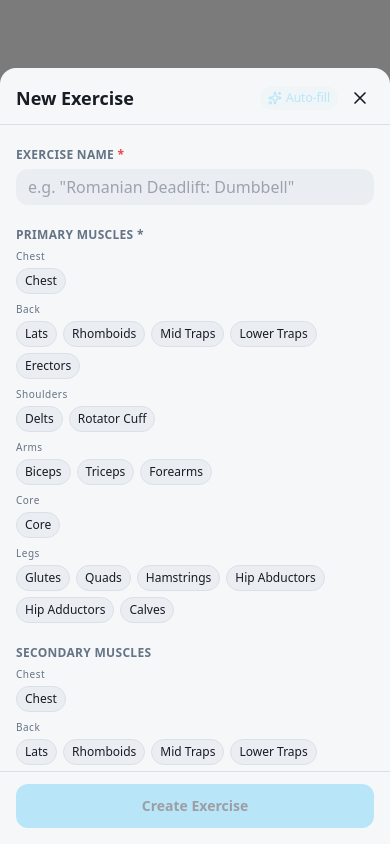
Scenario: CreateExerciseForm — Auto-fill button › Auto-fill click POSTs kind=all with all CreateForm fields, fills empty description+steps+tips
In the field with placeholder "e.g. \"Romanian Deadlift: Dumbbell\"": (195, 186) [16, 168, 374, 204], type "Romanian Deadlift"
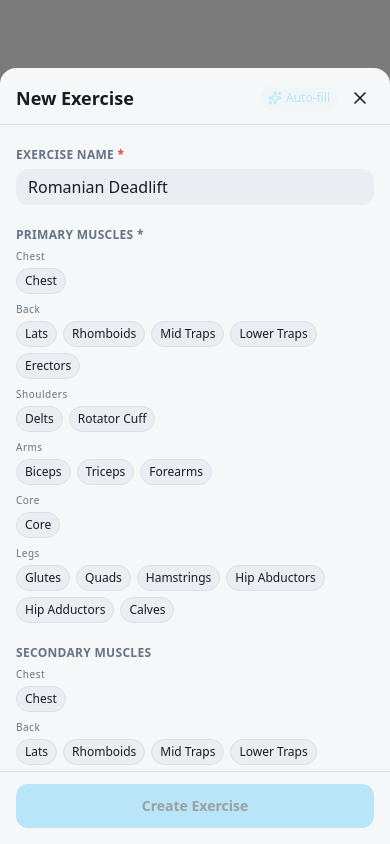
Click the button "Hamstrings": (179, 578) [137, 564, 220, 590]
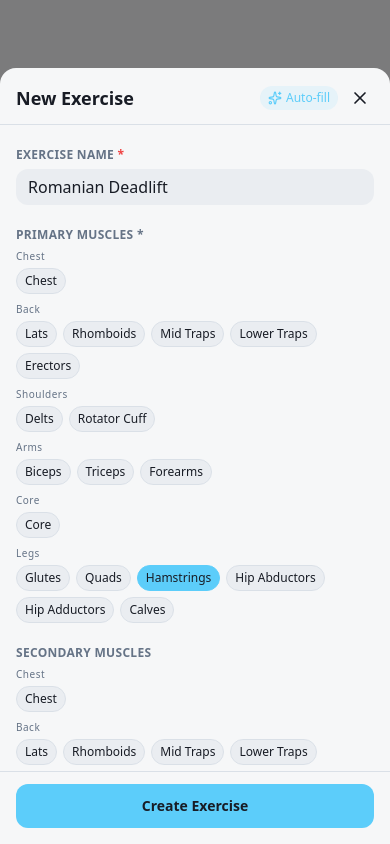
Click the button "Auto-fill": (299, 98) [260, 86, 338, 110]
(page scrolled)
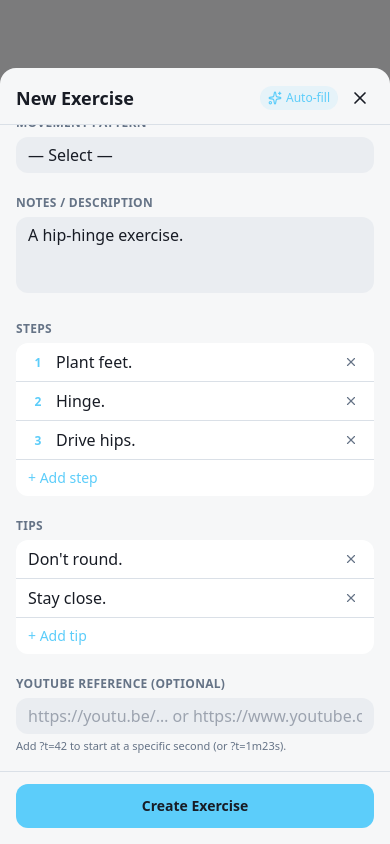
Result: the text box showing "A hip-hinge exercise." below "Notes / Description" is shown at [16, 216, 374, 292]
Result: the 2nd text box showing "Plant feet." is shown at [56, 350, 332, 372]
Result: the 5th text box showing "Don't round." is shown at [28, 548, 332, 570]
